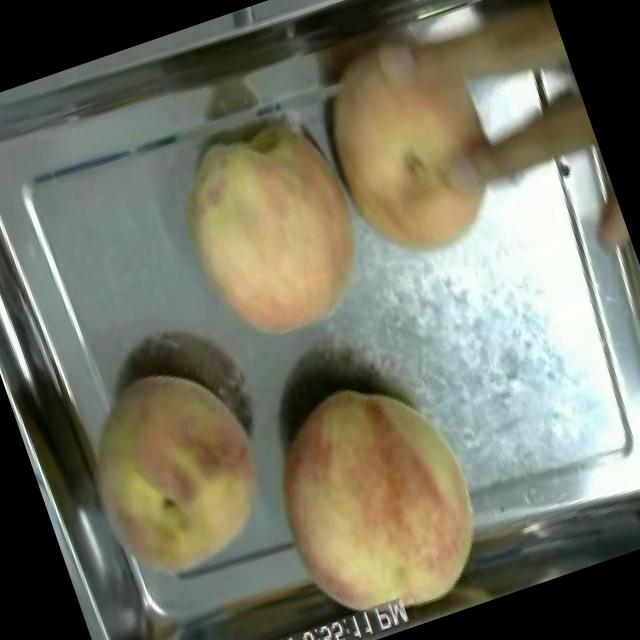Fruit: (242, 346, 515, 640), (286, 0, 558, 287), (50, 336, 298, 606), (153, 101, 395, 369)
